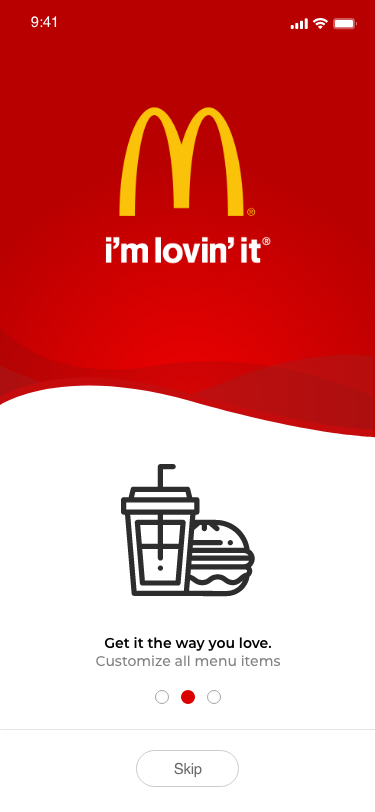Image: (106, 108, 271, 264), (121, 464, 256, 597)
PageIndicator: (155, 689, 222, 705)
Text: (105, 636, 272, 652), (96, 655, 281, 667)
TextButton: (136, 749, 240, 787)
UpperTaskBar: (31, 16, 358, 31)
